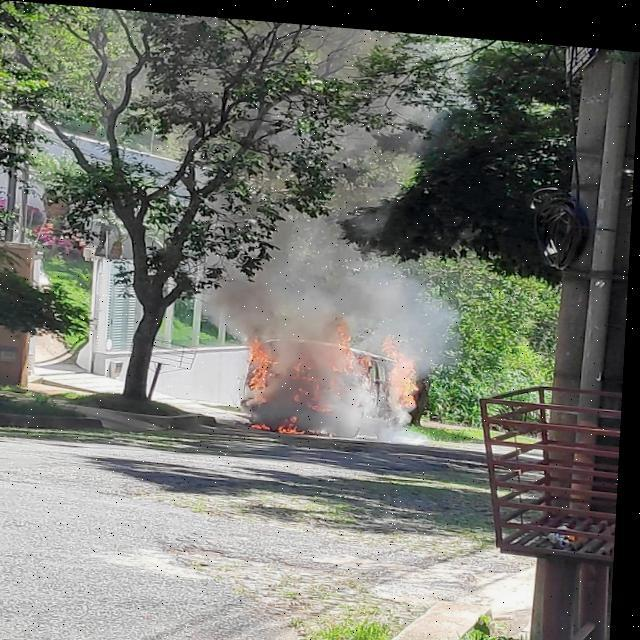Fire: (381, 328, 426, 404), (334, 307, 374, 370), (243, 336, 281, 399), (294, 352, 338, 406), (282, 408, 306, 428), (253, 416, 275, 424)
